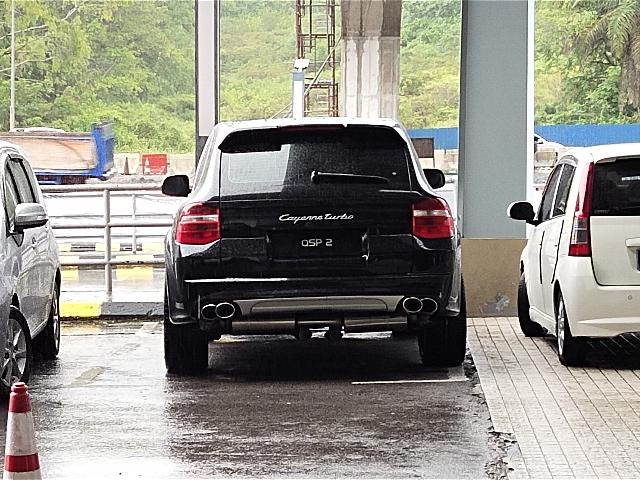License_Plate: (275, 233, 361, 258)
car: (155, 119, 471, 380), (506, 135, 640, 371)
